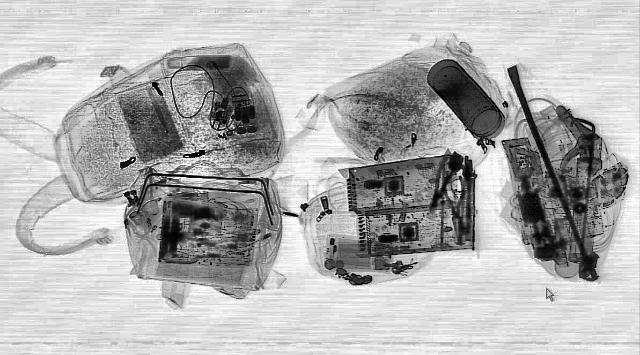Pliers: (418, 156, 464, 214), (439, 175, 465, 217)
